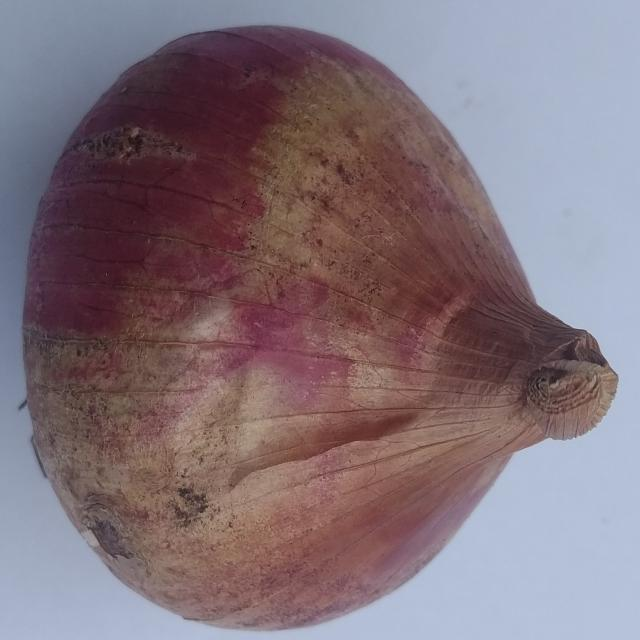onion: (18, 23, 620, 633)
